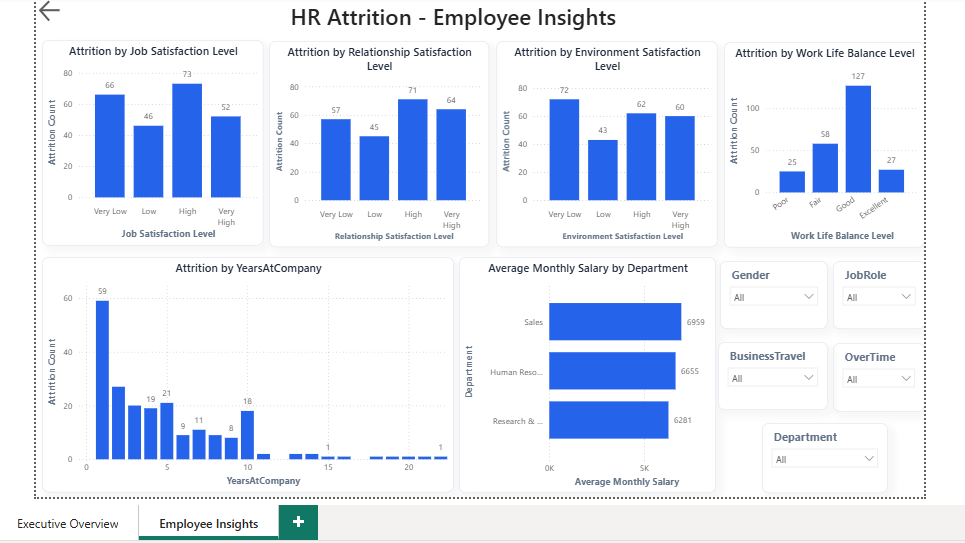

The page's visual inventory and layout, read from the dashboard file:
{"tool":"powerbi","page":{"name":"Employee Insights","canvas":[1280,720],"ordinal":1},"visuals":[{"type":"clusteredColumnChart","title":"Attrition by Job Satisfaction Level","fields":{"Y":["hr_employee_attrition.Attrition Count"],"Category":["hr_employee_attrition.Job Satisfaction Level"]},"box":[8.4,62.2,319.2,295.6],"z":0},{"type":"clusteredColumnChart","title":"Attrition by Environment Satisfaction Level","fields":{"Category":["hr_employee_attrition.Environment Satisfaction Level"],"Y":["hr_employee_attrition.Attrition Count"]},"box":[661.8,63.8,319.2,297.3],"z":1000},{"type":"clusteredColumnChart","title":"Attrition by Work Life Balance Level","fields":{"Y":["hr_employee_attrition.Attrition Count"],"Category":["hr_employee_attrition.Work Life Balance Level"]},"box":[991.1,65.5,288.9,295.6],"z":2000},{"type":"clusteredColumnChart","title":"Attrition by Relationship Satisfaction Level","fields":{"Category":["hr_employee_attrition.Relationship Satisfaction Level"],"Y":["hr_employee_attrition.Attrition Count"]},"box":[335.8,63.3,316.6,297.3],"z":3000},{"type":"clusteredColumnChart","title":"Attrition by YearsAtCompany","fields":{"Y":["hr_employee_attrition.Attrition Count"],"Category":["hr_employee_attrition.YearsAtCompany"]},"box":[8.4,374.6,593,339.3],"z":4000},{"type":"clusteredBarChart","title":"Average Monthly Salary by Department","fields":{"Category":["hr_employee_attrition.Department"],"Y":["hr_employee_attrition.Average Salary"]},"box":[609.1,374.4,370.1,339.8],"z":5000},{"type":"slicer","fields":{"Values":["hr_employee_attrition.Department"]},"box":[1044.8,613.1,181.4,100.8],"z":6000},{"type":"slicer","fields":{"Values":["hr_employee_attrition.Gender"]},"box":[985,380,155,97.5],"z":7000},{"type":"slicer","fields":{"Values":["hr_employee_attrition.JobRole"]},"box":[1147.5,380,132.5,97.5],"z":8000},{"type":"slicer","fields":{"Values":["hr_employee_attrition.OverTime"]},"box":[1147.8,497.9,132.2,99.1],"z":9000},{"type":"slicer","fields":{"Values":["hr_employee_attrition.BusinessTravel"]},"box":[982.5,497.5,157.5,97.5],"z":10000},{"type":"textbox","box":[356.1,0,490.5,62.2],"z":11000},{"type":"actionButton","box":[0,0,100,40],"z":12000}]}

Visuals, with their boxes on the page's 1280x720 design canvas (x1, y1, x2, y2). These are canvas units, not pixel positions in the 965x543 screenshot, which may show the page scaled, cropped or inside an application window:
"Attrition by Job Satisfaction Level" clusteredColumnChart: BBox(8, 62, 328, 358)
"Attrition by Environment Satisfaction Level" clusteredColumnChart: BBox(662, 64, 981, 361)
"Attrition by Work Life Balance Level" clusteredColumnChart: BBox(991, 66, 1280, 361)
"Attrition by Relationship Satisfaction Level" clusteredColumnChart: BBox(336, 63, 652, 361)
"Attrition by YearsAtCompany" clusteredColumnChart: BBox(8, 375, 601, 714)
"Average Monthly Salary by Department" clusteredBarChart: BBox(609, 374, 979, 714)
slicer - hr_employee_attrition.Department: BBox(1045, 613, 1226, 714)
slicer - hr_employee_attrition.Gender: BBox(985, 380, 1140, 478)
slicer - hr_employee_attrition.JobRole: BBox(1148, 380, 1280, 478)
slicer - hr_employee_attrition.OverTime: BBox(1148, 498, 1280, 597)
slicer - hr_employee_attrition.BusinessTravel: BBox(982, 498, 1140, 595)
textbox: BBox(356, 0, 847, 62)
actionButton: BBox(0, 0, 100, 40)
